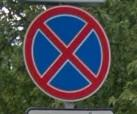No Parking: (23, 6, 113, 104)
